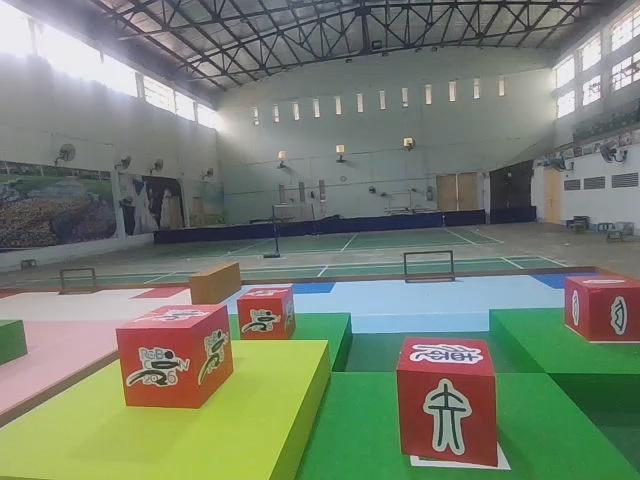R1: (113, 304, 233, 408), (235, 285, 298, 344)
R2 Fake: (394, 337, 500, 471)
R2 Real: (562, 273, 640, 347)
